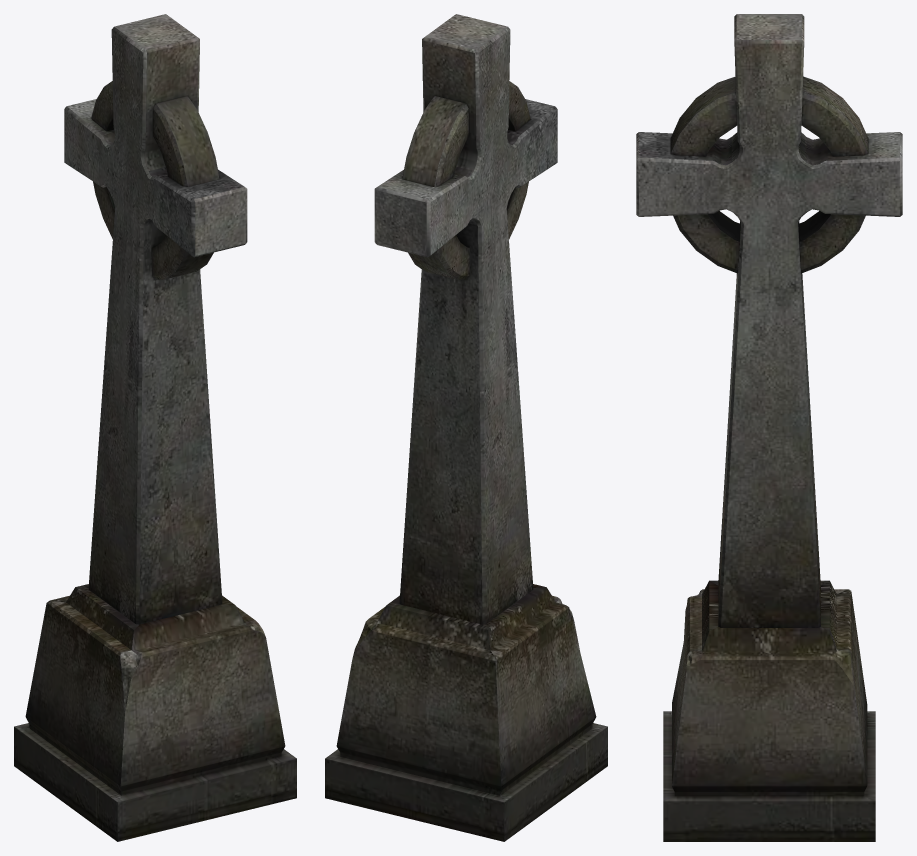
File: gravestone_cross001a.glb
3 renders of one model, left to right at view 1: azimuth 30°, elevation 25°; view 2: azimuth 150°, elevation 25°; view 3: azimuth 270°, elevation 25°, orthographic. The views are drawn at different scales.
Visible parts, largest first — view 1: 0_gravestones001a; view 2: 0_gravestones001a; view 3: 0_gravestones001a.
Boxes of the visible parts, x1=… form: 0_gravestones001a: x1=14, y1=14, x2=296, y2=841; 0_gravestones001a: x1=325, y1=14, x2=607, y2=841; 0_gravestones001a: x1=636, y1=14, x2=902, y2=841.
Size of the model in its own units: 1.02 by 4.06 by 1.27.
1 material, 1 textured.
